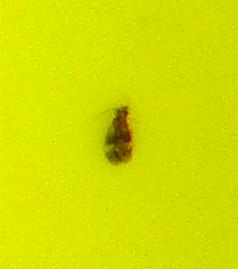Hemiptera: (100, 100, 138, 169)
